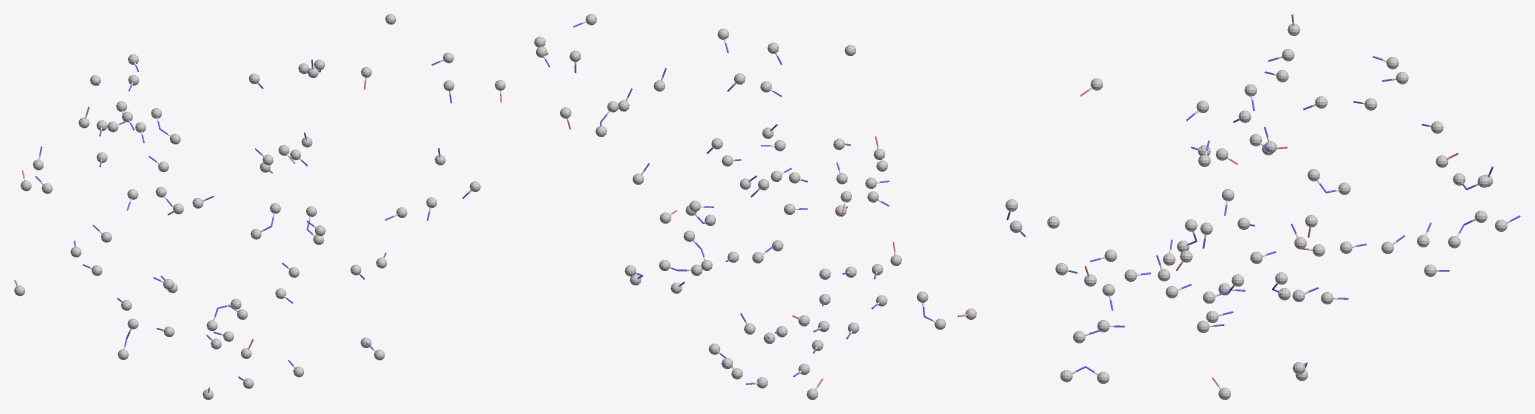
Rendered from 1crn__ball_and_stick__default__H.glb.
The picture shows the model from 3 angles, left to right: view 1: azimuth 30°, elevation 25°; view 2: azimuth 150°, elevation 25°; view 3: azimuth 270°, elevation 25°; orthographic projection. The views are drawn at different scales.
Visible parts, largest first — view 1: Renderer Node; view 2: Renderer Node; view 3: Renderer Node.
Part boxes in pixels (x1,y1,x2,y2): Renderer Node: (14,14,505,399); Renderer Node: (534,14,976,399); Renderer Node: (1005,14,1520,399).
Bounding box in the file's own units: 28.39 × 19.56 × 24.39.
